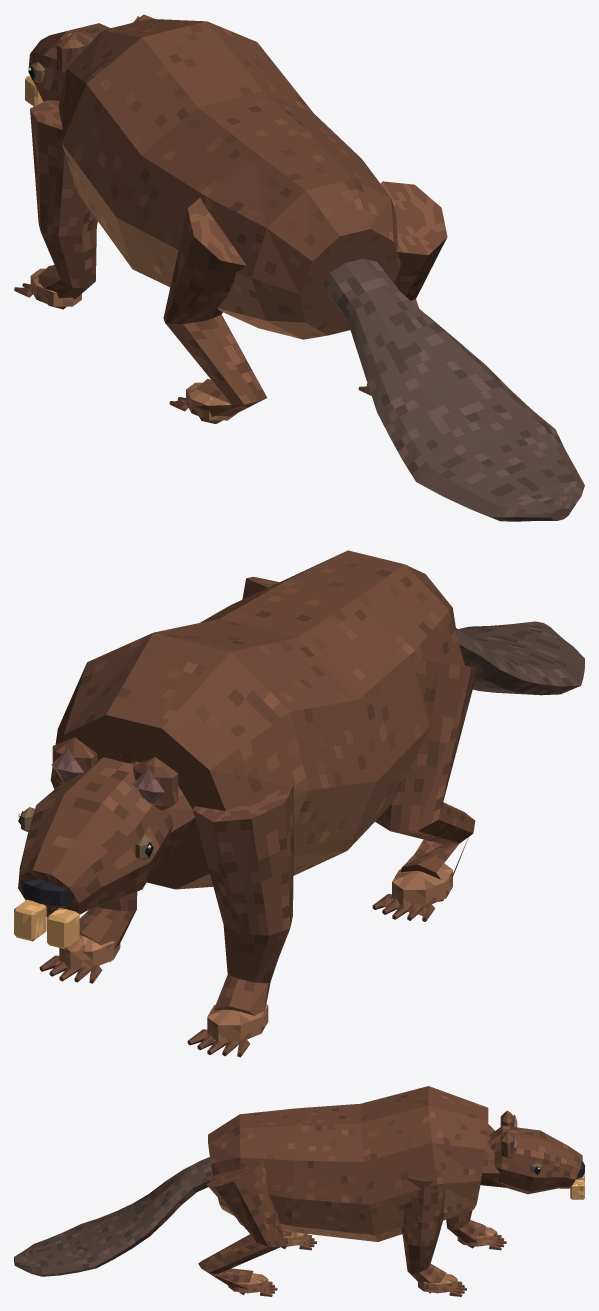
File: mon_beaver.glb
3 views of the same model, one above another, from view 1: azimuth 30°, elevation 25°; view 2: azimuth 150°, elevation 25°; view 3: azimuth 270°, elevation 25° (orthographic). The views are drawn at different scales.
Parts seen in each view (by area): view 1: closed_body; view 2: closed_body; view 3: closed_body.
Boxes of the visible parts, x1,y1,x2,y2 form: closed_body: (14, 14, 584, 521); closed_body: (14, 550, 584, 1057); closed_body: (14, 1086, 584, 1296).
Size of the model in its own units: 0.3456 by 0.4397 by 1.29.
1 material, 1 textured.
